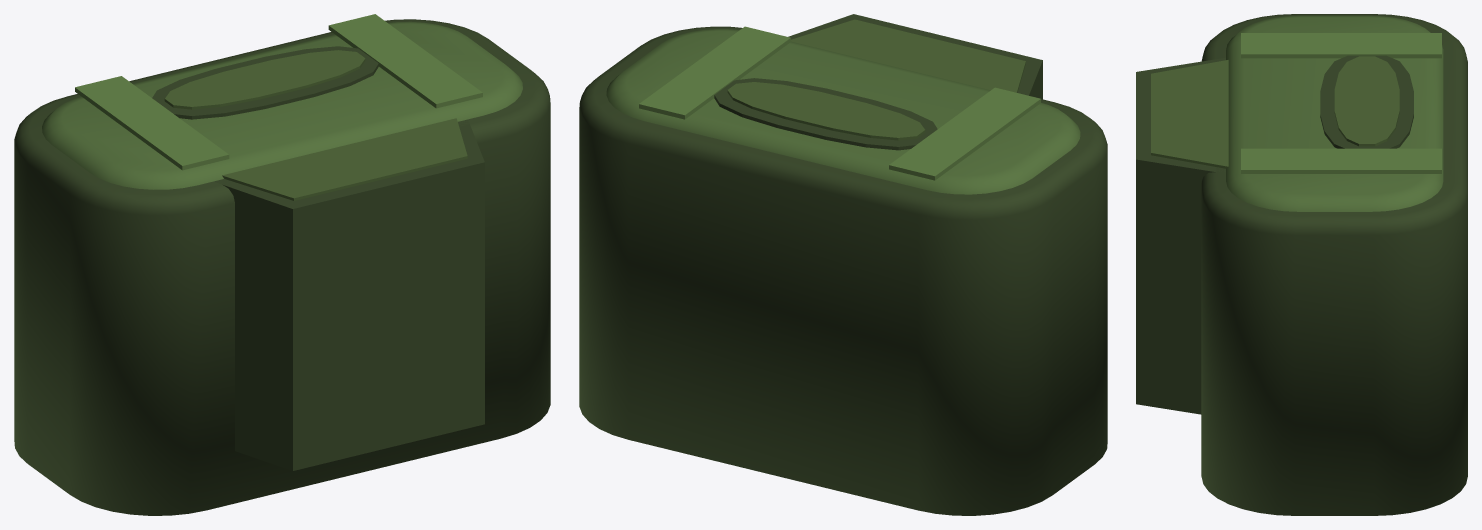
File: bag_padrao_verde.fbx
The picture shows the model from 3 angles, left to right: view 1: azimuth 30°, elevation 25°; view 2: azimuth 150°, elevation 25°; view 3: azimuth 270°, elevation 25°; orthographic projection. The views are drawn at different scales.
Visible parts, largest first — view 1: bag_padrao_verde_mochila; view 2: bag_padrao_verde_mochila; view 3: bag_padrao_verde_mochila.
Part boxes in pixels (bbox=[...]): bag_padrao_verde_mochila: bbox=[14, 14, 550, 515]; bag_padrao_verde_mochila: bbox=[579, 14, 1107, 515]; bag_padrao_verde_mochila: bbox=[1136, 14, 1467, 515].
Bounding box in the file's own units: 2.8 × 1.9 × 1.84.
Materials: 1 (1 with a texture image).
